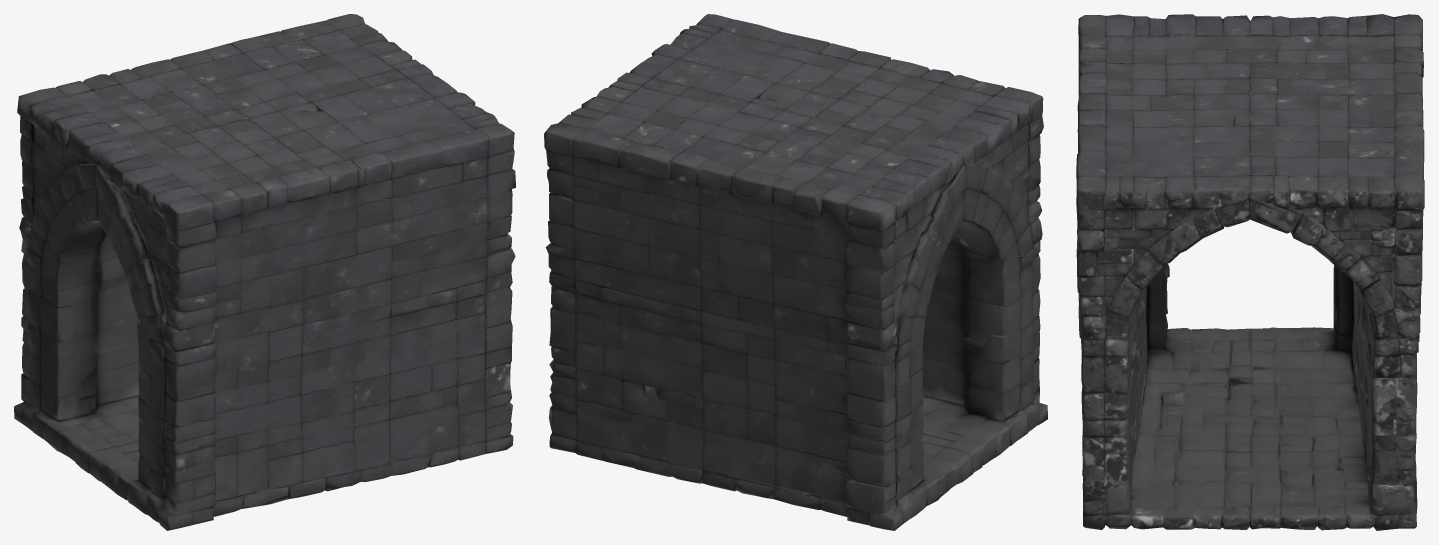
The model's file is mod_straight.glb.
3 views of the same model, side by side, from view 1: azimuth 30°, elevation 25°; view 2: azimuth 150°, elevation 25°; view 3: azimuth 270°, elevation 25° (orthographic). The views are drawn at different scales.
Visible parts, largest first — view 1: tripo_node_d1f22615-8681-4910-b354-69580f6371b2; view 2: tripo_node_d1f22615-8681-4910-b354-69580f6371b2; view 3: tripo_node_d1f22615-8681-4910-b354-69580f6371b2.
Boxes of the visible parts, x1,y1,x2,y2 form: tripo_node_d1f22615-8681-4910-b354-69580f6371b2: (14, 14, 515, 530); tripo_node_d1f22615-8681-4910-b354-69580f6371b2: (544, 14, 1047, 530); tripo_node_d1f22615-8681-4910-b354-69580f6371b2: (1076, 14, 1424, 530).
Bounding box in the file's own units: 1 × 0.8754 × 0.8091.
1 material, 1 textured.
